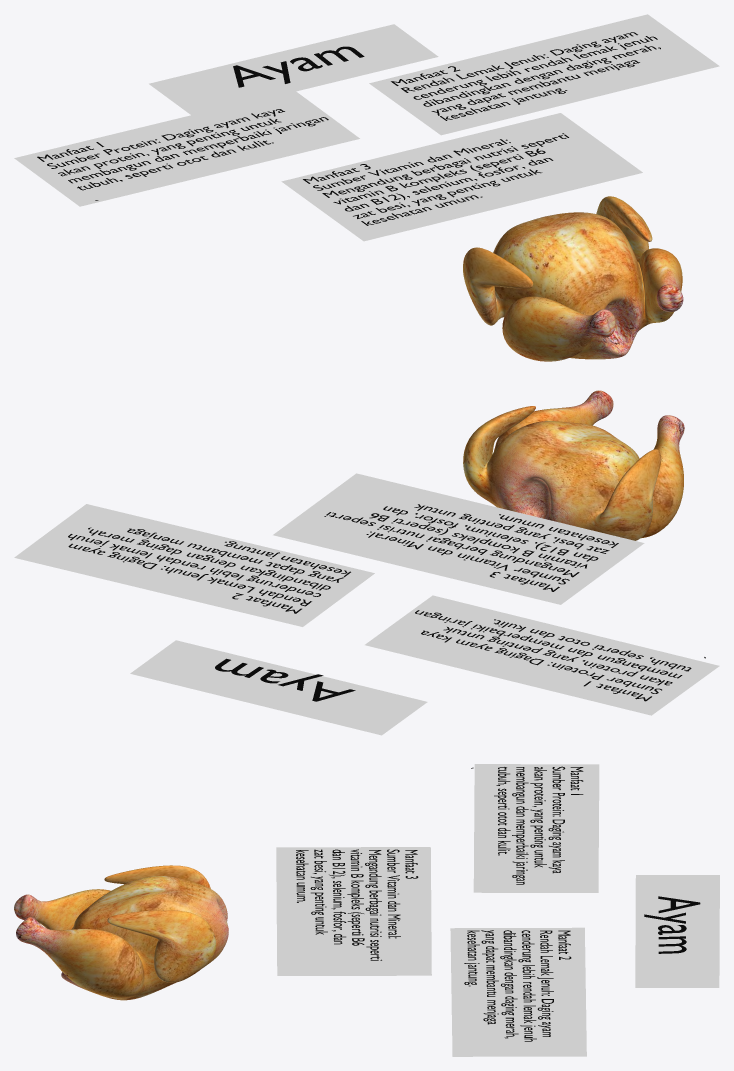
Rendered from Ayam.glb.
3 views of the same model, one above another, from view 1: azimuth 30°, elevation 25°; view 2: azimuth 150°, elevation 25°; view 3: azimuth 270°, elevation 25° (orthographic). The views are drawn at different scales.
Visible parts, largest first — view 1: 10864_rotisserie_chicken_v2_L3, manfaat3 plane, manfaat2 plane, manfaat1, Plane, manfaat3`, manfaat2, manfaat1.001, Text; view 2: manfaat3 plane, 10864_rotisserie_chicken_v2_L3, manfaat2 plane, manfaat1, Plane, manfaat3`, manfaat2, manfaat1.001, Text; view 3: 10864_rotisserie_chicken_v2_L3, manfaat3 plane, manfaat2 plane, manfaat1, Plane, manfaat3`, manfaat2, manfaat1.001, Text.
Boxes of the visible parts, x1,y1,x2,y2 form: 10864_rotisserie_chicken_v2_L3: (463, 196, 683, 361); manfaat3 plane: (281, 113, 642, 241); manfaat2 plane: (369, 14, 719, 135); manfaat1: (14, 90, 359, 206); Plane: (149, 24, 438, 115); manfaat3`: (303, 133, 568, 225); manfaat2: (391, 32, 660, 120); manfaat1.001: (37, 109, 328, 200); Text: (233, 46, 364, 87); manfaat3 plane: (273, 473, 644, 604); 10864_rotisserie_chicken_v2_L3: (463, 390, 684, 540); manfaat2 plane: (14, 504, 374, 626); manfaat1: (365, 595, 719, 715); Plane: (130, 640, 427, 735); manfaat3`: (324, 504, 618, 591); manfaat2: (68, 527, 350, 613); manfaat1.001: (415, 610, 705, 701); Text: (215, 658, 355, 701); 10864_rotisserie_chicken_v2_L3: (14, 865, 228, 1000); manfaat3 plane: (276, 847, 431, 975); manfaat2 plane: (450, 927, 586, 1056); manfaat1: (473, 764, 599, 892); Plane: (635, 875, 719, 987); manfaat3`: (296, 849, 418, 960); manfaat2: (464, 930, 571, 1041); manfaat1.001: (471, 766, 583, 884); Text: (644, 896, 700, 953).
Size of the model in its own units: 4.96 by 0.8793 by 5.13.
Materials: 5 (1 with a texture image).
